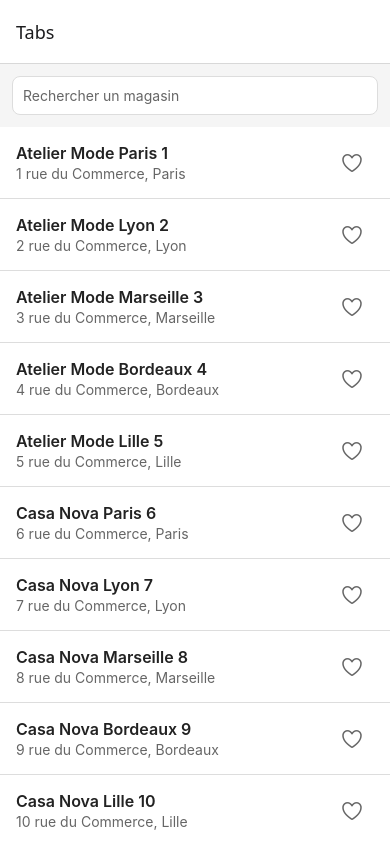
StoreListScreen › transmet la recherche (debouncée) à l’API et affiche l’état vide
The image size is (390, 844).
Type "zzz" into the search field.
click(195, 96); type("zzz")  # box [12, 76, 378, 115]
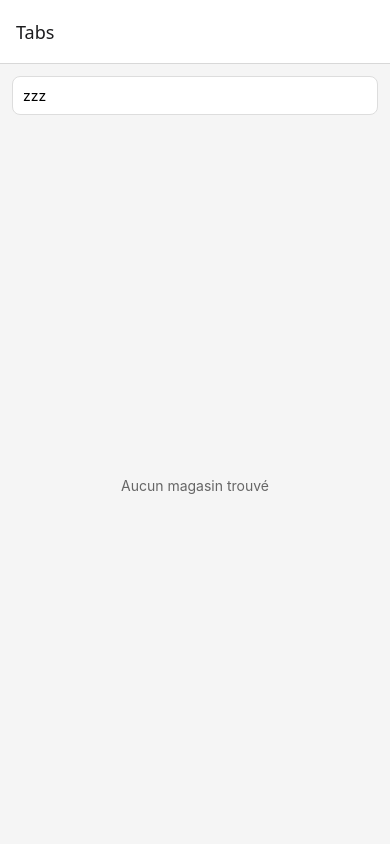
Check: the text "Aucun magasin trouvé" is shown, box [121, 477, 269, 494]
